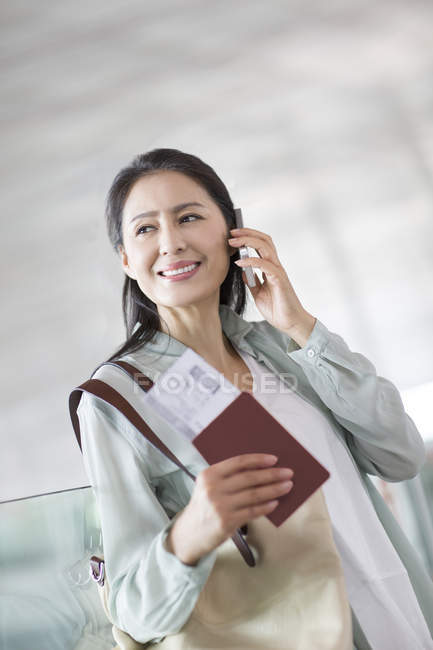phone: (217, 202, 290, 295)
talk: (118, 182, 310, 318)
